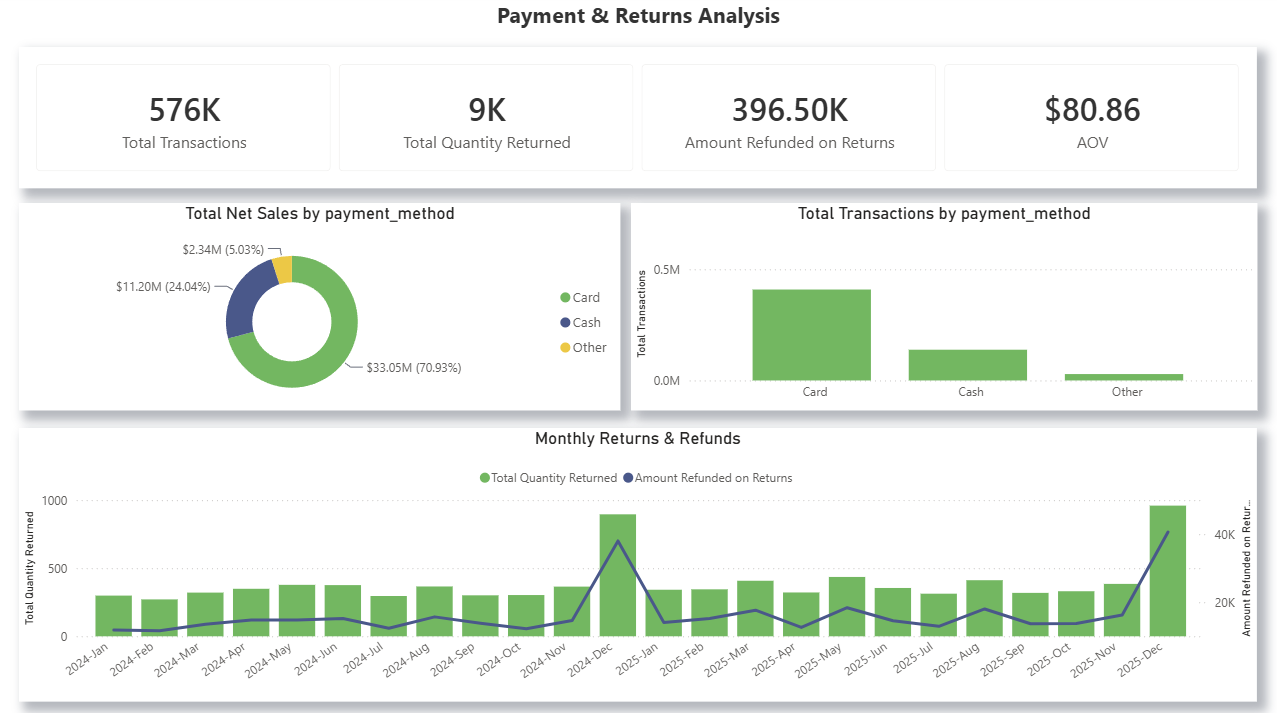

This screenshot's page, from the dashboard's own definition file:
{"tool":"powerbi","page":{"name":"Payment & Returns Analysis","canvas":[1280,720],"ordinal":4},"visuals":[{"type":"cardVisual","fields":{"Data":["Measures Table.Total Transactions","Measures Table.Total Quantity Returned","Measures Table.Amount Refunded on Returns","Measures Table.AOV"]},"box":[21.9,52.4,1234.9,141.3],"z":0},{"type":"donutChart","fields":{"Category":["dim_payment_method.payment_method"],"Y":["Measures Table.Total Net Sales"]},"box":[21.9,207,600.4,207],"z":1},{"type":"clusteredColumnChart","fields":{"Category":["dim_payment_method.payment_method"],"Y":["Measures Table.Total Transactions"]},"box":[632.1,207,624.8,207],"z":2},{"type":"lineClusteredColumnComboChart","title":"Monthly Returns & Refunds","fields":{"Category":["Calendar.year_month"],"Y":["Measures Table.Total Quantity Returned"],"Y2":["Measures Table.Amount Refunded on Returns"]},"box":[21.9,432.4,1234.9,272.8],"z":3},{"type":"textbox","box":[0,0,1280,41.4],"z":4}]}

Visuals, with their boxes in screenshot pixels (x1, y1, x2, y2), scaled from the page's 1280x720 canvas onto the 1277x713 screenshot:
cardVisual - Measures Table.Total Transactions x Measures Table.Total Quantity Returned: crop(22, 52, 1254, 192)
donutChart - dim_payment_method.payment_method x Measures Table.Total Net Sales: crop(22, 205, 621, 410)
clusteredColumnChart - dim_payment_method.payment_method x Measures Table.Total Transactions: crop(631, 205, 1254, 410)
"Monthly Returns & Refunds" lineClusteredColumnComboChart: crop(22, 428, 1254, 698)
textbox: crop(0, 0, 1276, 41)
